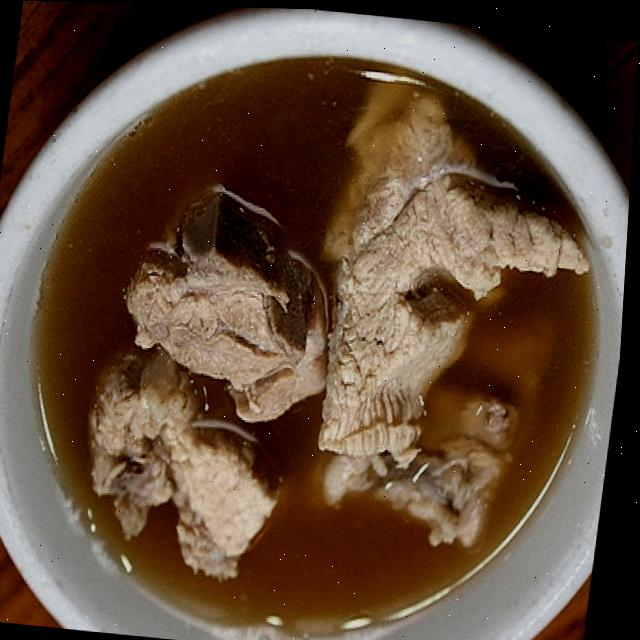汤锅炖物: (0, 29, 639, 640)
